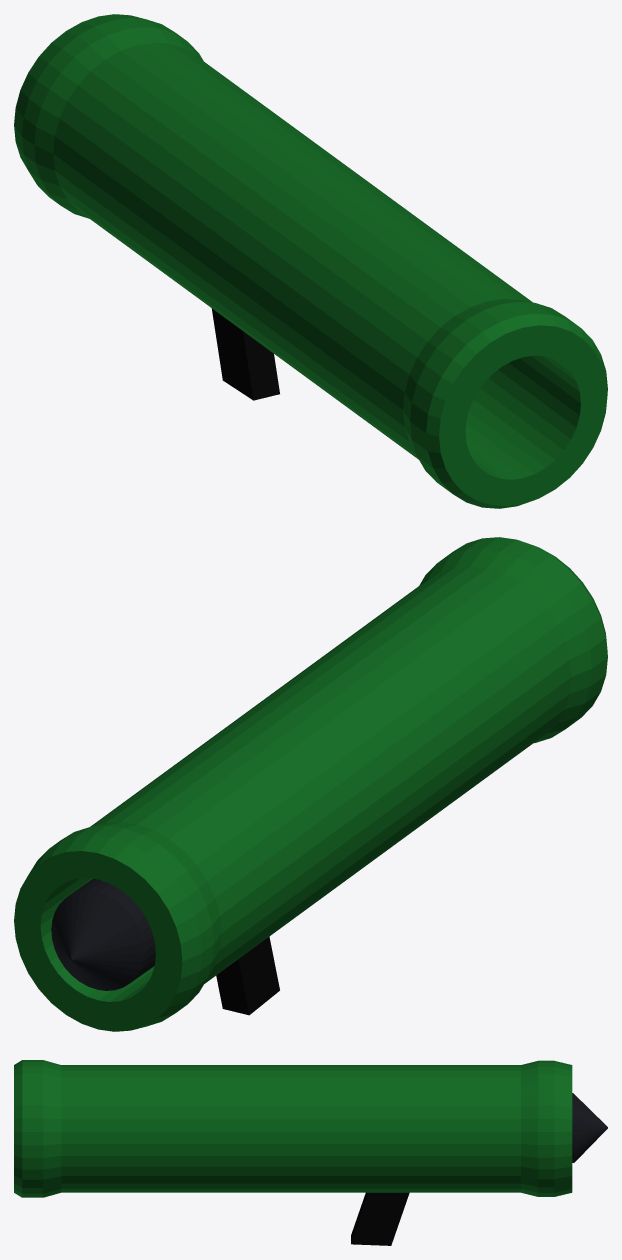
File: Rocketluncher.fbx
3 views of the same model, one above another, from view 1: azimuth 30°, elevation 25°; view 2: azimuth 150°, elevation 25°; view 3: azimuth 270°, elevation 25° (orthographic). The views are drawn at different scales.
Visible parts, largest first — view 1: Walec, Kostka; view 2: Walec, Walec.001, Kostka; view 3: Walec, Kostka, Walec.001.
Boxes of the visible parts, <box> form: Walec: <box>14,14,607,508</box>; Kostka: <box>211,308,279,400</box>; Walec: <box>14,537,607,1031</box>; Walec.001: <box>51,879,155,990</box>; Kostka: <box>216,936,279,1015</box>; Walec: <box>14,1060,572,1197</box>; Kostka: <box>351,1192,409,1245</box>; Walec.001: <box>572,1093,607,1162</box>.
Size of the model in its own units: 195 by 273 by 840.
